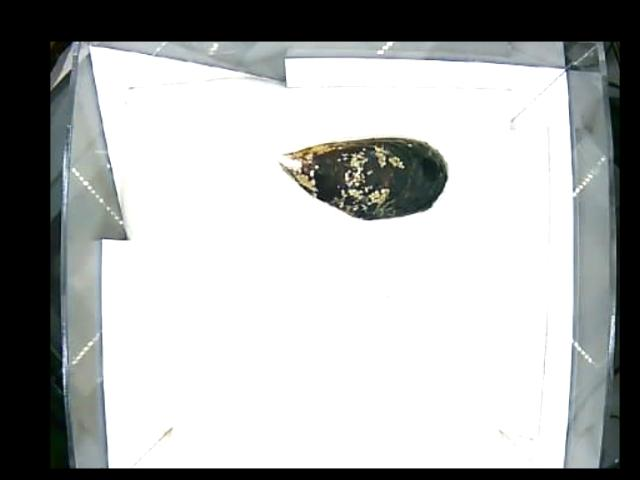Shell: (277, 136, 448, 218)
